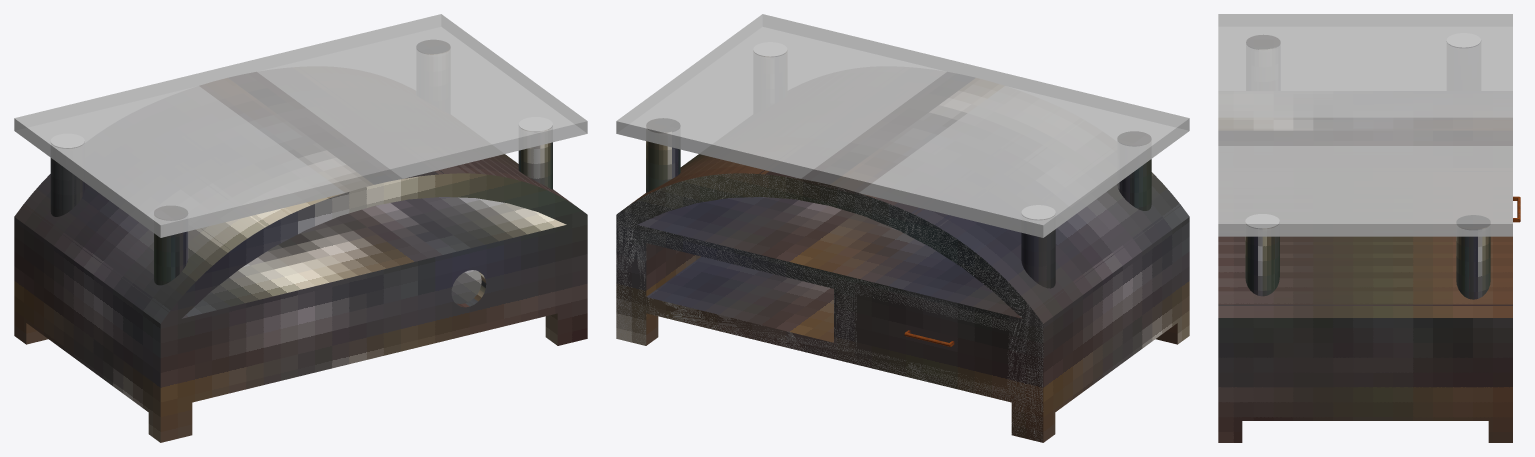
3 renders of one model, left to right at view 1: azimuth 30°, elevation 25°; view 2: azimuth 150°, elevation 25°; view 3: azimuth 270°, elevation 25°, orthographic.
Visible parts, largest first — view 1: mesh15_mesh15-geometry, mesh17_mesh17-geometry, mesh14_mesh14-geometry, mesh13_mesh13-geometry; view 2: mesh15_mesh15-geometry, mesh14_mesh14-geometry, mesh16_mesh16-geometry, mesh17_mesh17-geometry; view 3: mesh15_mesh15-geometry, mesh16_mesh16-geometry, mesh13_mesh13-geometry, mesh17_mesh17-geometry, mesh14_mesh14-geometry.
Boxes of the visible parts, x1=… form: mesh15_mesh15-geometry: x1=14, y1=14, x2=587, y2=442; mesh17_mesh17-geometry: x1=154, y1=206, x2=188, y2=285; mesh14_mesh14-geometry: x1=50, y1=134, x2=84, y2=216; mesh13_mesh13-geometry: x1=518, y1=117, x2=552, y2=189; mesh15_mesh15-geometry: x1=616, y1=14, x2=1189, y2=442; mesh14_mesh14-geometry: x1=1021, y1=205, x2=1055, y2=288; mesh16_mesh16-geometry: x1=646, y1=118, x2=680, y2=192; mesh17_mesh17-geometry: x1=1117, y1=131, x2=1151, y2=210; mesh15_mesh15-geometry: x1=1218, y1=14, x2=1512, y2=442; mesh16_mesh16-geometry: x1=1456, y1=215, x2=1490, y2=299; mesh13_mesh13-geometry: x1=1245, y1=214, x2=1279, y2=296; mesh17_mesh17-geometry: x1=1246, y1=35, x2=1280, y2=49; mesh14_mesh14-geometry: x1=1447, y1=33, x2=1480, y2=47.
Size of the model in its own units: 0.5792 by 0.282 by 0.353.
